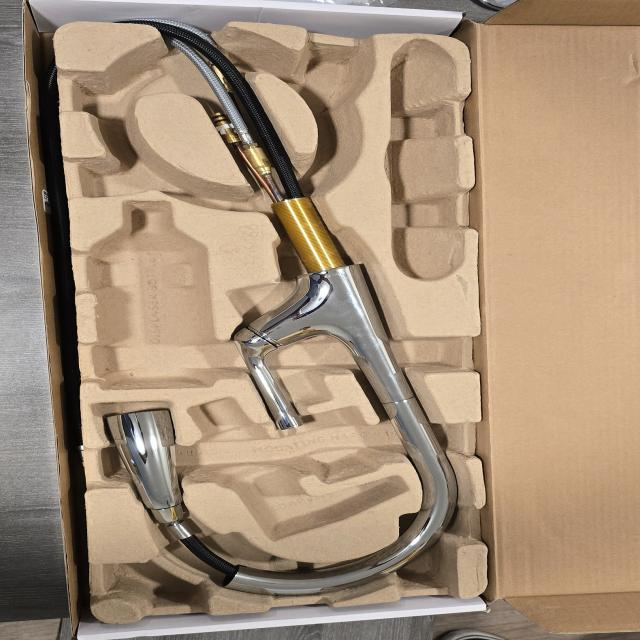1: (108, 20, 460, 597)
2m: (187, 398, 405, 541)
3m: (89, 202, 213, 385)
4m: (386, 41, 464, 280)
5m: (298, 65, 356, 111)
6m: (82, 68, 162, 114)
7m: (82, 155, 162, 191)
